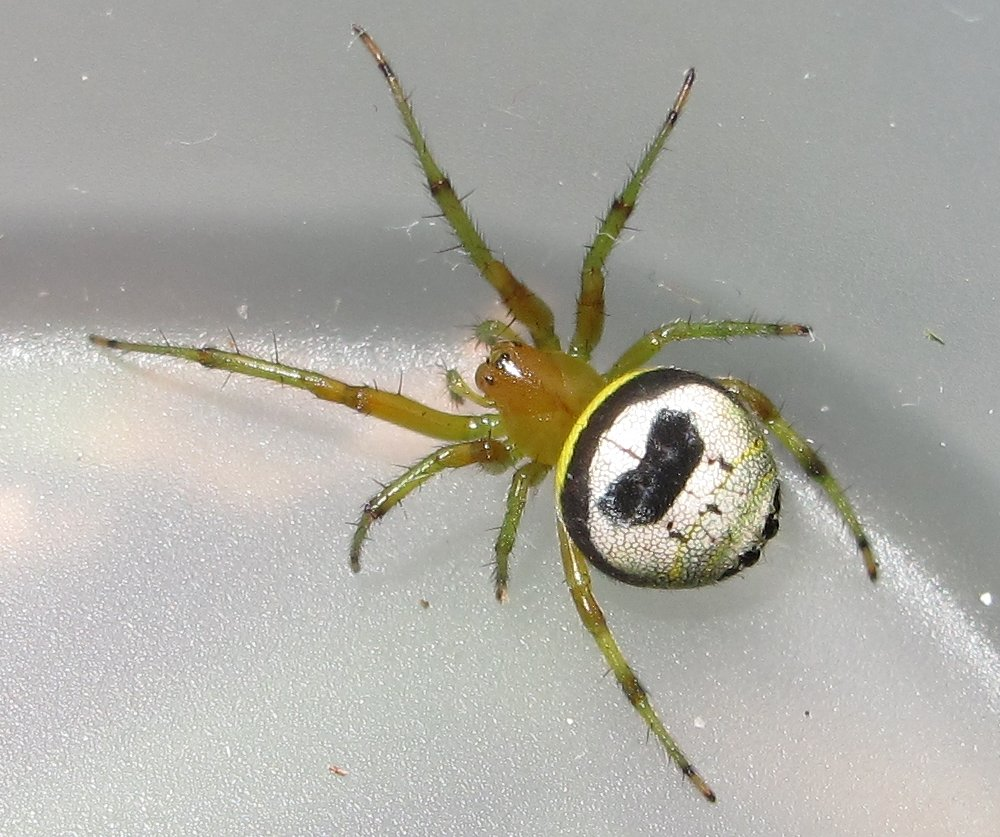spider: (47, 9, 900, 813)
